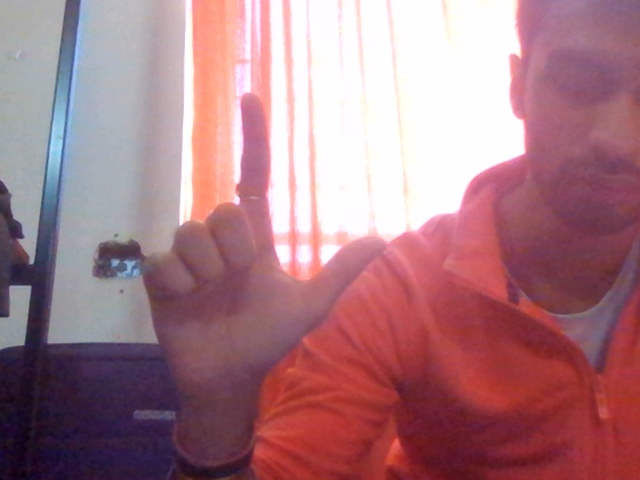L: (117, 88, 391, 453)
